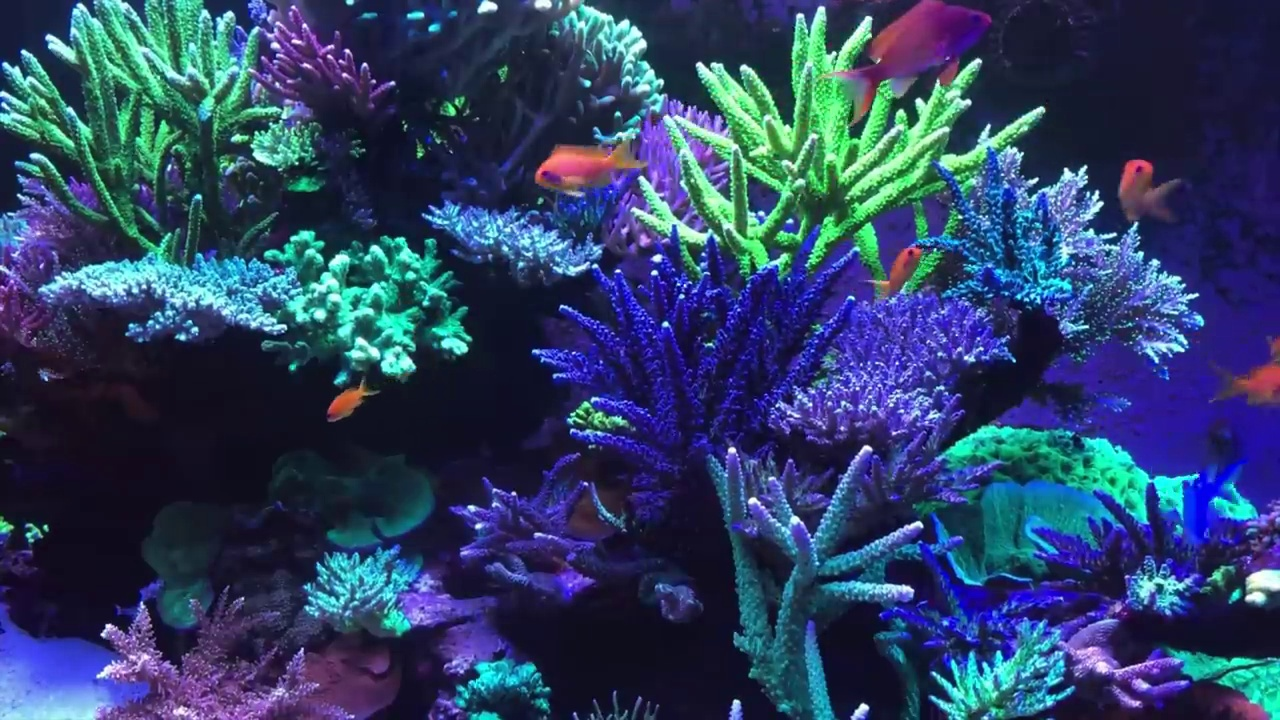fish: (822, 1, 995, 132), (533, 141, 650, 197), (1117, 158, 1183, 225), (1207, 357, 1280, 410), (868, 245, 926, 300), (325, 375, 381, 425)
